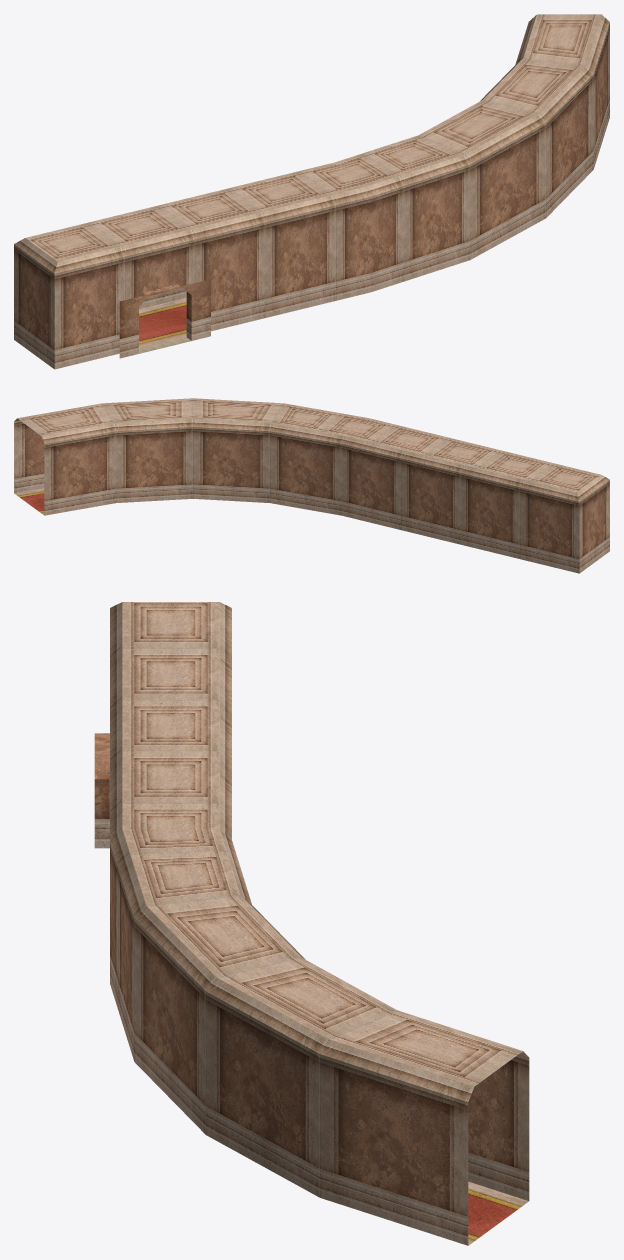
File: thm_nboo_thed_emp_retreat_r1_foyer_mesh_r1.fbx
The picture shows the model from 3 angles, top to bottom: view 1: azimuth 30°, elevation 25°; view 2: azimuth 150°, elevation 25°; view 3: azimuth 270°, elevation 25°; orthographic projection. The views are drawn at different scales.
Visible parts, largest first — view 1: mesh_node; view 2: mesh_node; view 3: mesh_node.
Boxes of the visible parts, <box> form: mesh_node: <box>14,14,609,369</box>; mesh_node: <box>14,398,609,573</box>; mesh_node: <box>94,602,529,1245</box>.
Bounding box in the file's own units: 38.35 × 5.6 × 14.25.
